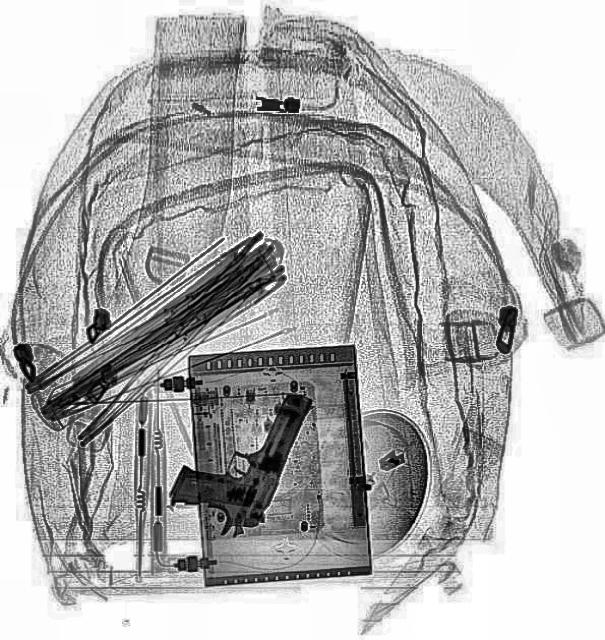Gun: (162, 366, 310, 544)
